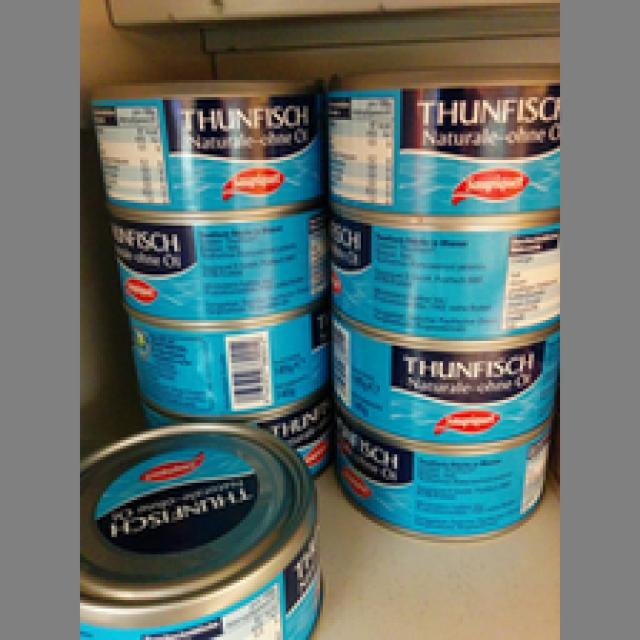groceries: (77, 420, 326, 637), (326, 63, 557, 214), (89, 69, 320, 214), (317, 308, 554, 446), (326, 397, 554, 540), (323, 209, 554, 340), (97, 206, 329, 323), (114, 309, 323, 417)
